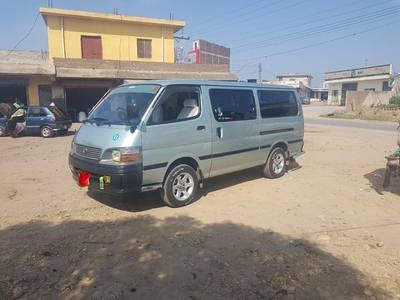van: (69, 79, 307, 199)
